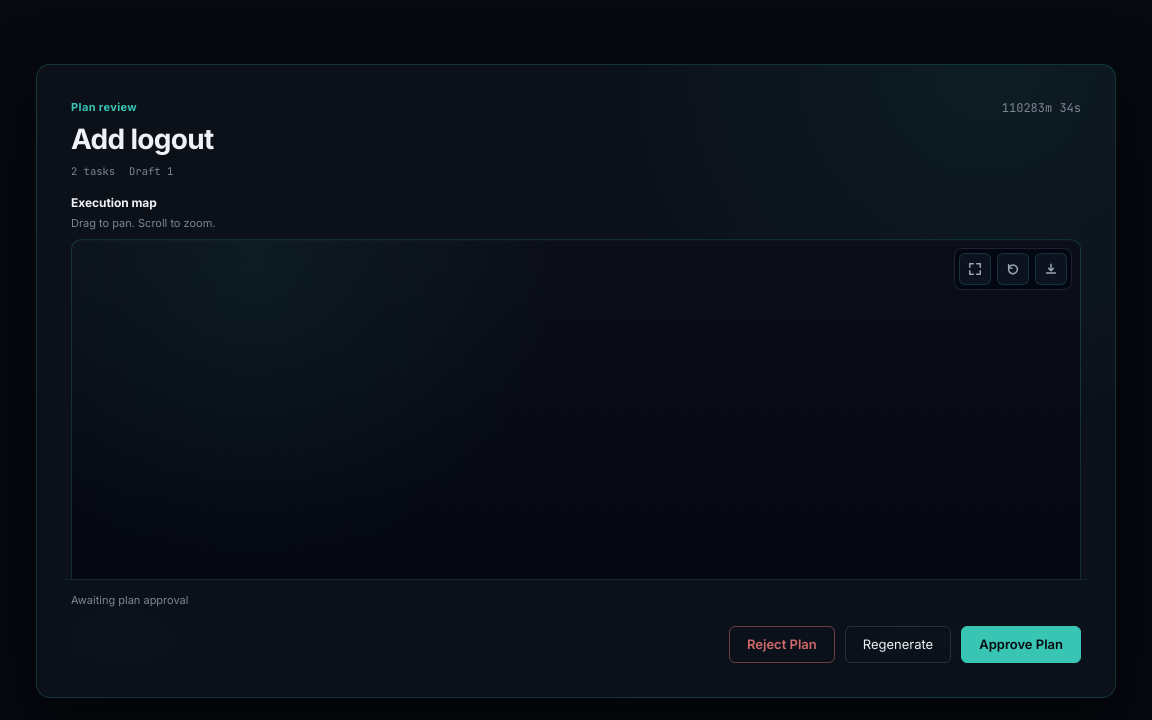
it: MissionPlanPreview › clears submitting on confirmPlan promise rejection so the user can retry
Click the button "Approve Plan". click: (1021, 644)
box: [961,626,1081,663]
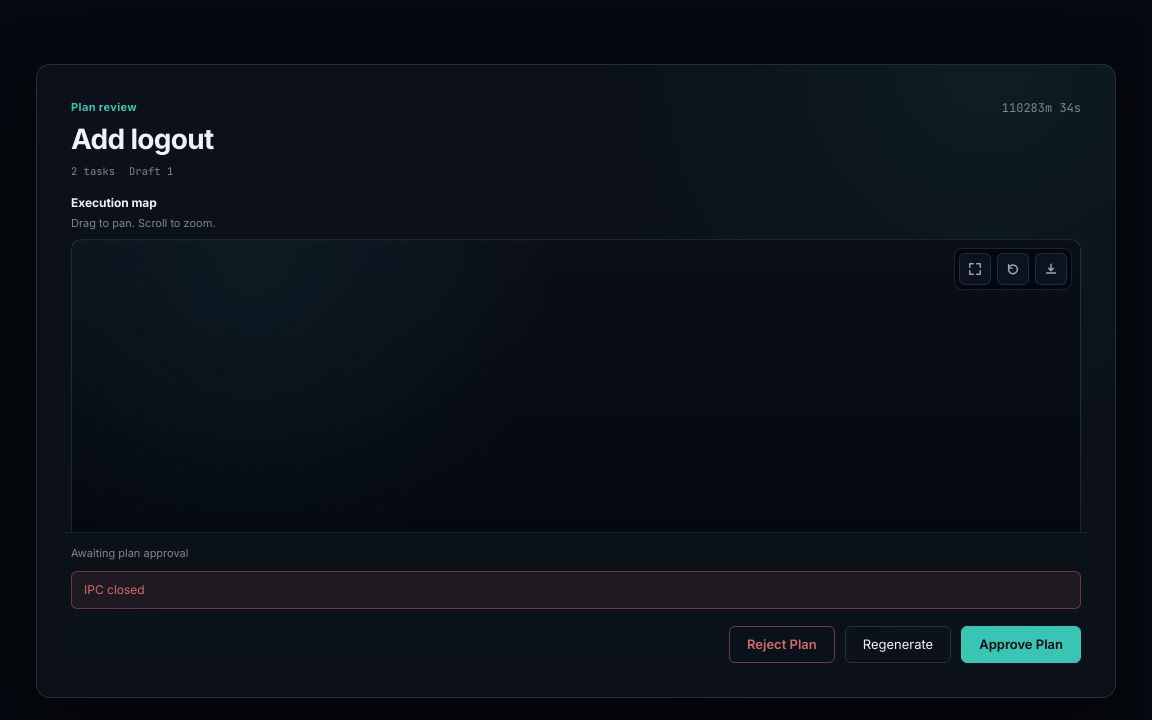
Expected: the text "IPC closed" is shown, [71,570,1081,608]
